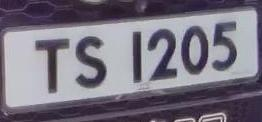0: (179, 17, 213, 82)
1: (122, 24, 150, 90)
2: (144, 20, 181, 89)
5: (209, 14, 243, 77)
S: (70, 28, 113, 94)
T: (29, 32, 78, 99)
